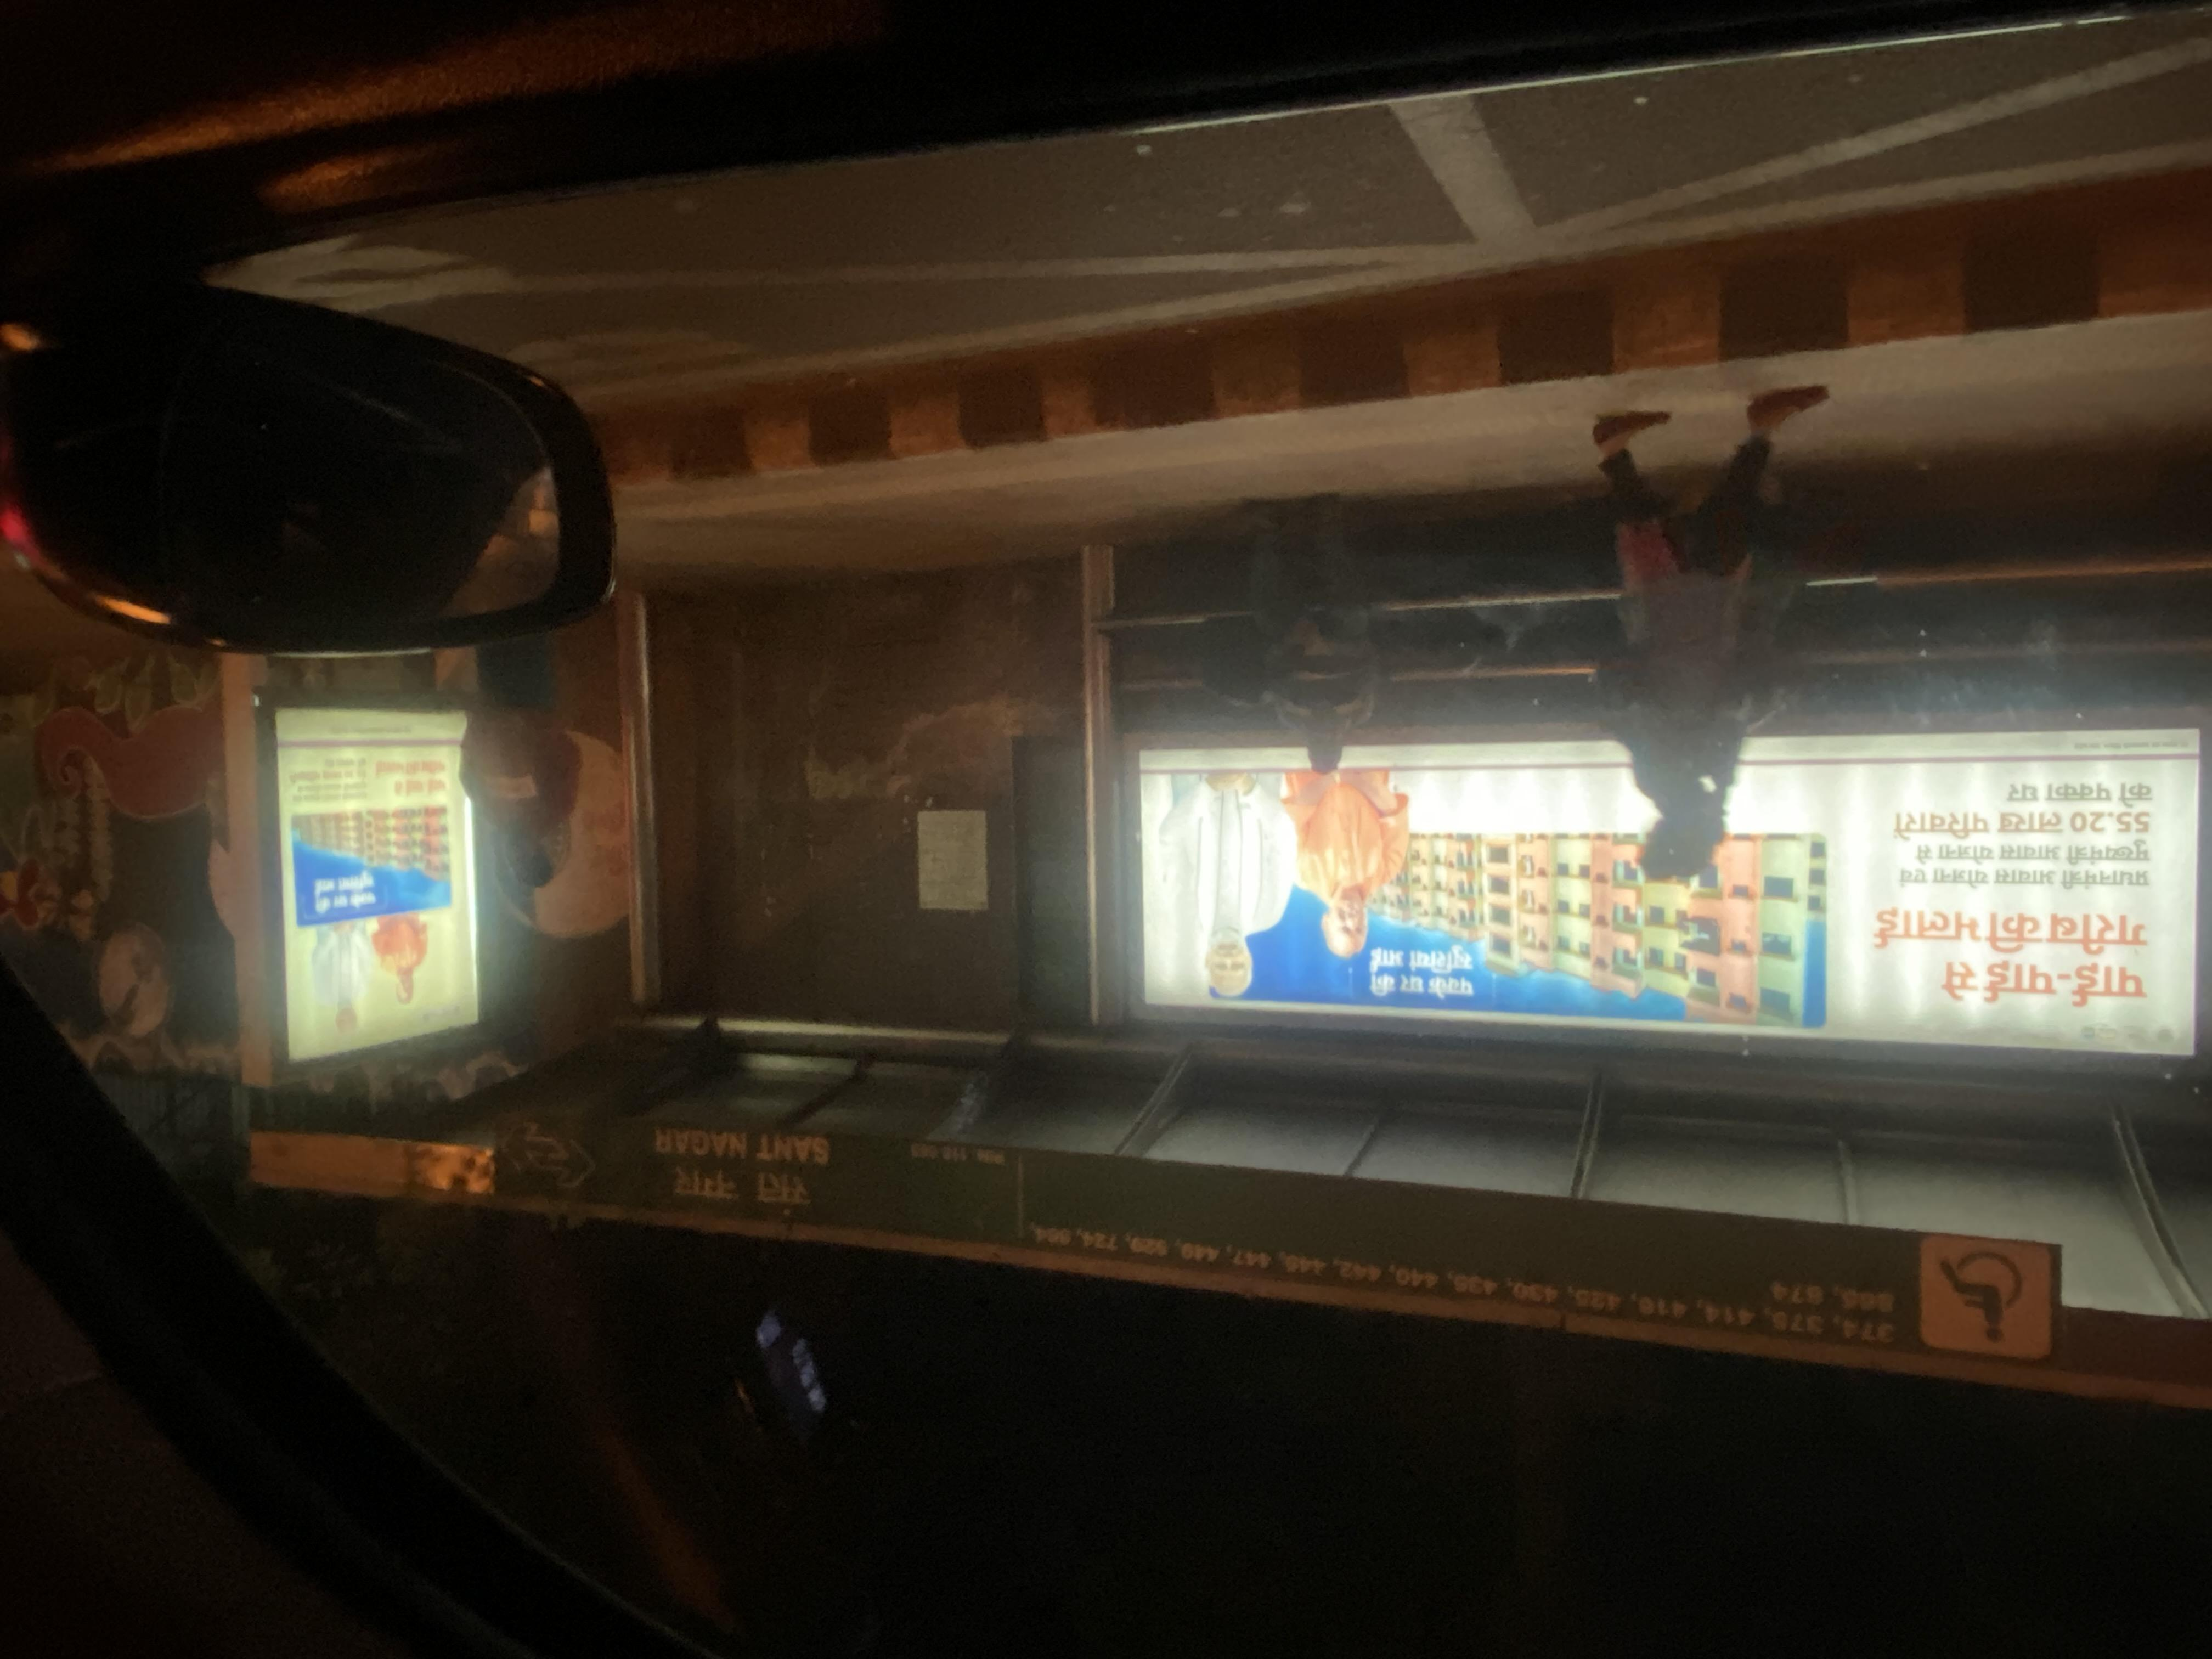Bus-stop-board: (467, 1053, 2107, 1387)
